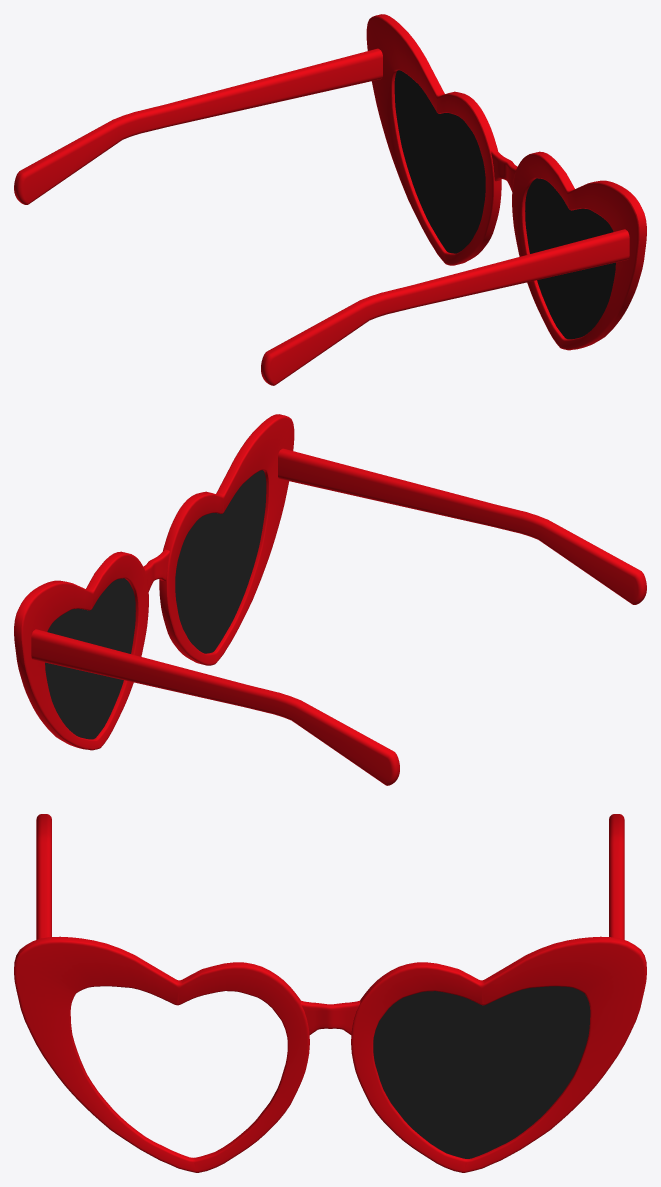
File: heart_glasses.glb
3 views of the same model, one above another, from view 1: azimuth 30°, elevation 25°; view 2: azimuth 150°, elevation 25°; view 3: azimuth 270°, elevation 25° (orthographic). The views are drawn at different scales.
Visible parts, largest first — view 1: armor, glass; view 2: armor, glass; view 3: armor, glass.
Boxes of the visible parts, x1,y1,x2,y2 form: armor: [14, 14, 646, 385]; glass: [394, 70, 615, 339]; armor: [14, 414, 646, 785]; glass: [45, 470, 266, 739]; armor: [14, 814, 646, 1172]; glass: [373, 986, 590, 1158].
Size of the model in its own units: 1.95 by 1 by 2.48.
